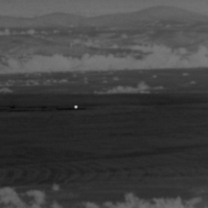Target: (73, 104, 79, 110)
